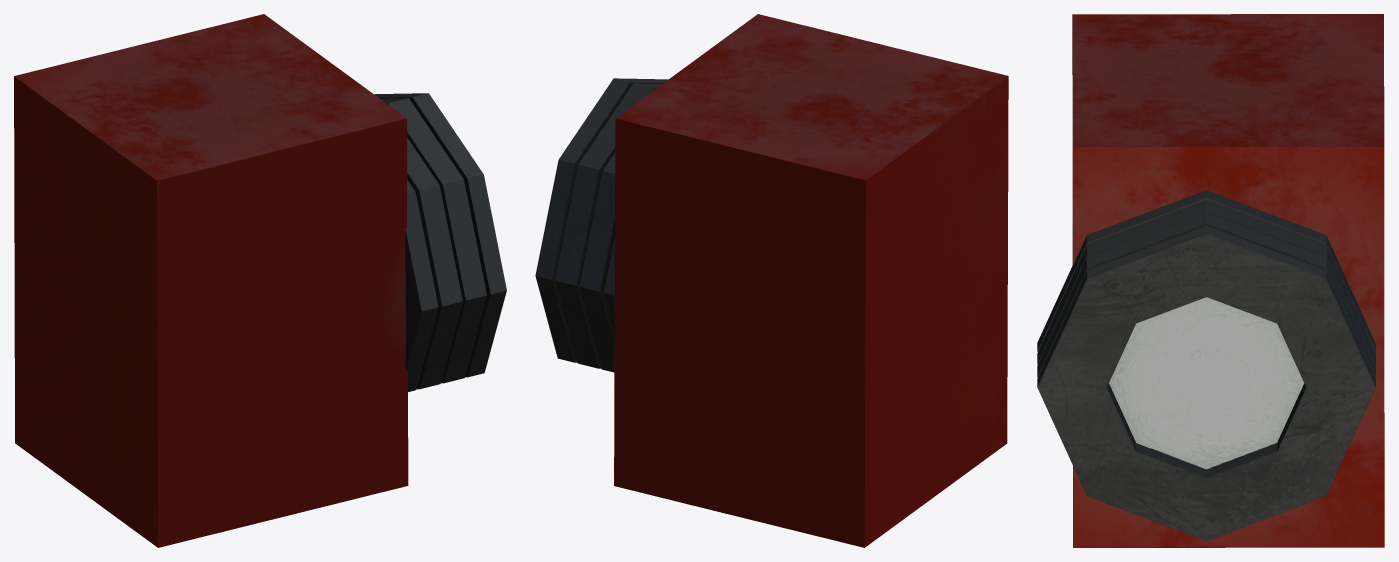
File: R_ARM.obj
3 renders of one model, left to right at view 1: azimuth 30°, elevation 25°; view 2: azimuth 150°, elevation 25°; view 3: azimuth 270°, elevation 25°, orthographic. The views are drawn at different scales.
Parts seen in each view (by area): view 1: group2 group pasted__pCube47, pasted__pCylinder29 group2 group; view 2: group2 group pasted__pCube47, pasted__pCylinder29 group2 group; view 3: pasted__pCylinder29 group2 group, group2 group pasted__pCube47.
Part boxes in pixels (<box>): group2 group pasted__pCube47: <box>14,14,408,547</box>; pasted__pCylinder29 group2 group: <box>374,93,506,391</box>; group2 group pasted__pCube47: <box>614,14,1008,547</box>; pasted__pCylinder29 group2 group: <box>535,78,668,372</box>; pasted__pCylinder29 group2 group: <box>1037,190,1375,541</box>; group2 group pasted__pCube47: <box>1072,14,1384,547</box>.
Bounding box in the file's own units: 1.54 × 1.62 × 1.27.
1 material, 1 textured.
